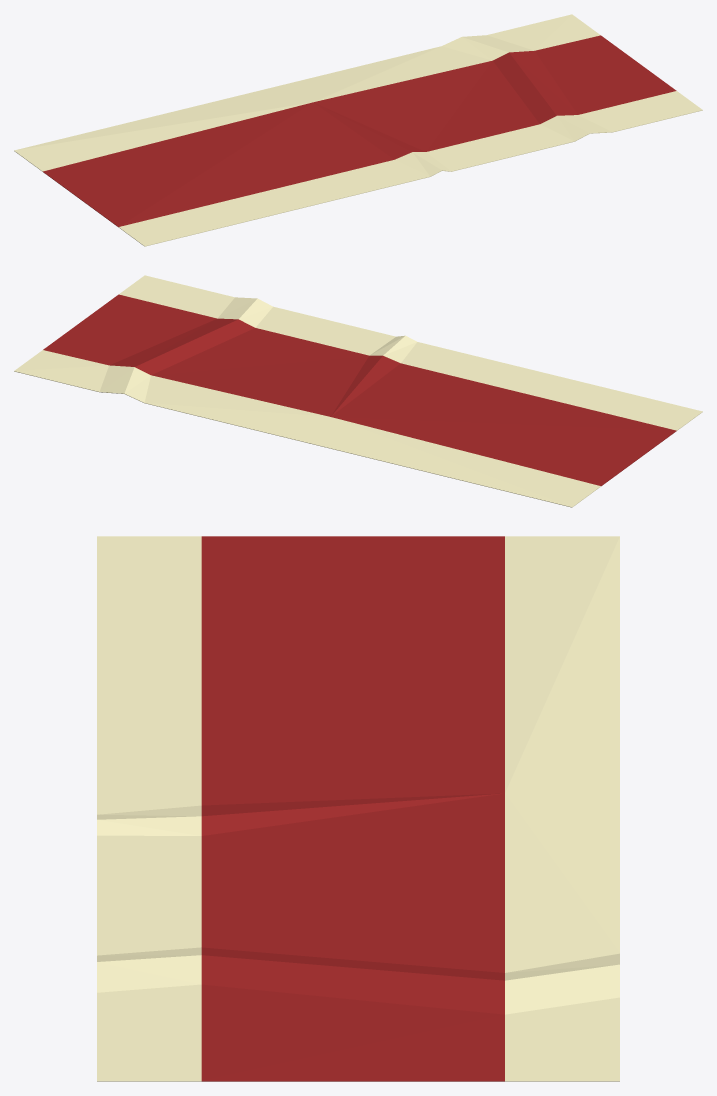
Rendered from Prop_Fantasy_Rug_Carpet_Runner_Wrinkled_01.FBX.
The picture shows the model from 3 angles, top to bottom: view 1: azimuth 30°, elevation 25°; view 2: azimuth 150°, elevation 25°; view 3: azimuth 270°, elevation 25°; orthographic projection. The views are drawn at different scales.
Parts seen in each view (by area): view 1: Prop_Fantasy_Rug_Carpet_Runner_Wrinkled_01; view 2: Prop_Fantasy_Rug_Carpet_Runner_Wrinkled_01; view 3: Prop_Fantasy_Rug_Carpet_Runner_Wrinkled_01.
Boxes of the visible parts, <box> form: Prop_Fantasy_Rug_Carpet_Runner_Wrinkled_01: <box>14,14,702,246</box>; Prop_Fantasy_Rug_Carpet_Runner_Wrinkled_01: <box>14,275,702,507</box>; Prop_Fantasy_Rug_Carpet_Runner_Wrinkled_01: <box>97,536,619,1081</box>.
Bounding box in the file's own units: 5016 × 49.43 × 2036.
